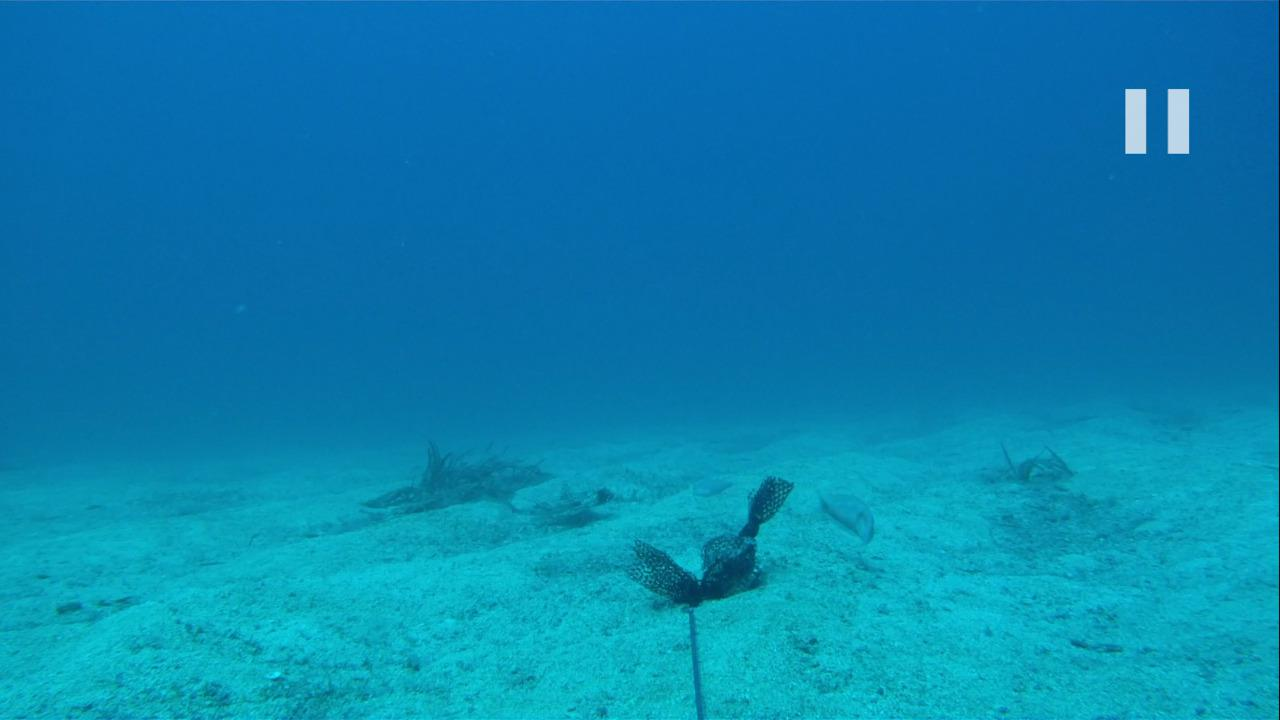dactylopterus: (504, 475, 614, 529)
raor: (799, 487, 879, 550)
